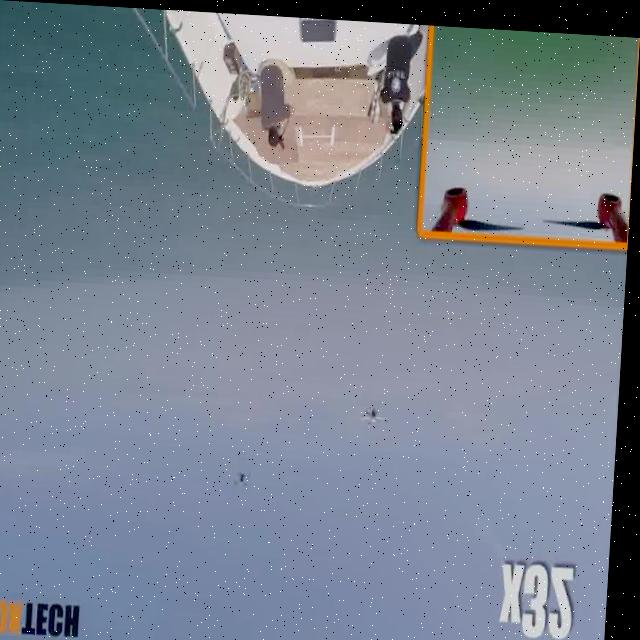drone: (360, 385, 397, 432), (233, 456, 263, 497)
